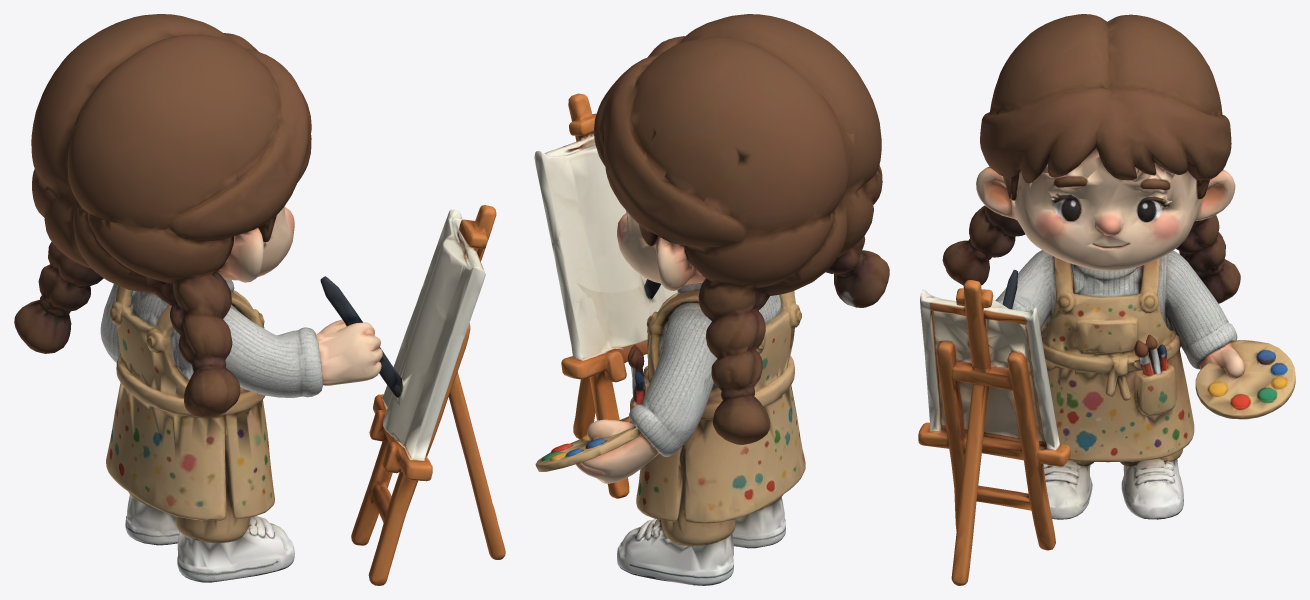
The picture shows the model from 3 angles, left to right: view 1: azimuth 30°, elevation 25°; view 2: azimuth 150°, elevation 25°; view 3: azimuth 270°, elevation 25°; orthographic projection. The views are drawn at different scales.
Parts seen in each view (by area): view 1: tripo_node_637f5e8a-78ed-4df9-b20f-e5f990c49231; view 2: tripo_node_637f5e8a-78ed-4df9-b20f-e5f990c49231; view 3: tripo_node_637f5e8a-78ed-4df9-b20f-e5f990c49231.
Boxes of the visible parts, box(x1,y1,x2,y2) form: tripo_node_637f5e8a-78ed-4df9-b20f-e5f990c49231: box(14, 14, 505, 585); tripo_node_637f5e8a-78ed-4df9-b20f-e5f990c49231: box(534, 14, 889, 585); tripo_node_637f5e8a-78ed-4df9-b20f-e5f990c49231: box(918, 14, 1295, 585).
Bounding box in the file's own units: 0.7216 × 0.9993 × 0.746.
Materials: 1 (1 with a texture image).
